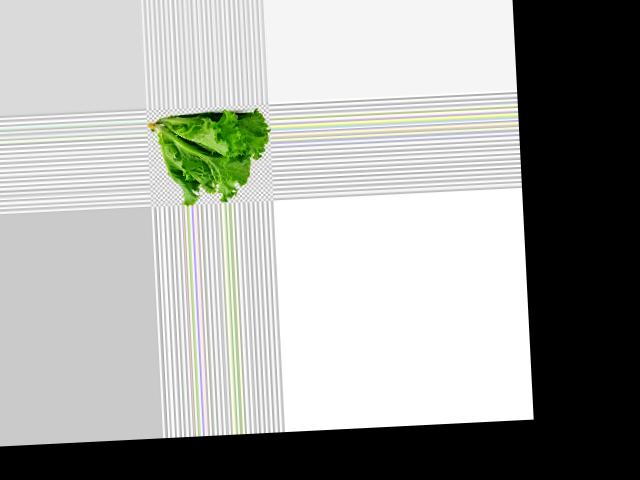lettuce: (146, 111, 272, 206)
